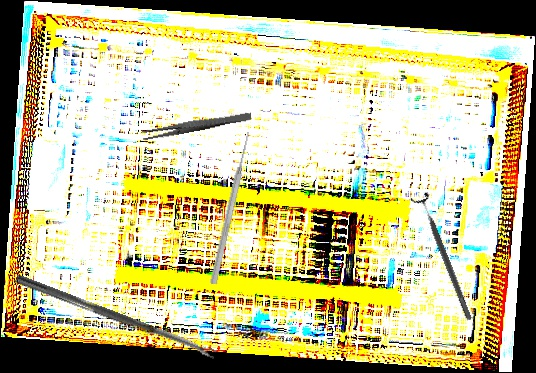Dressing Forceps: (140, 109, 253, 142)
Fixation Ring: (409, 190, 479, 324)
Pusher: (208, 130, 254, 286)
Surgical Spoon: (14, 274, 217, 360)
